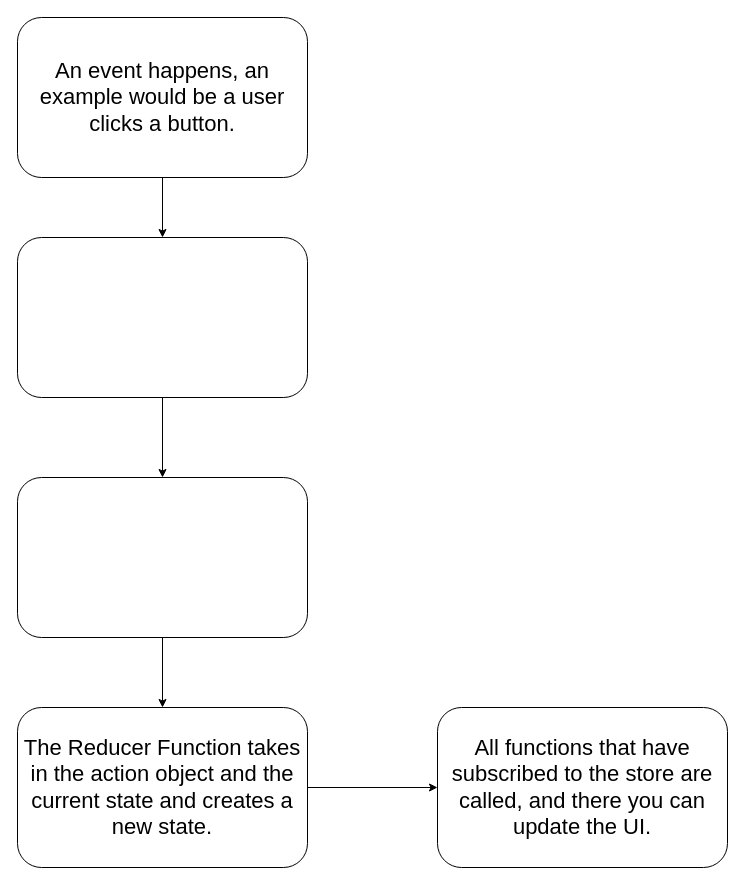
Some shapes in this 745 by 885 pixel diagram are drawn without their labels. Each missing label, with the centre of its shape:
"The action is sent to the store which passes it to the reducer function" goes at pixel 162 557.
"The function handling the event creates an dispatches and action" goes at pixel 162 317.
